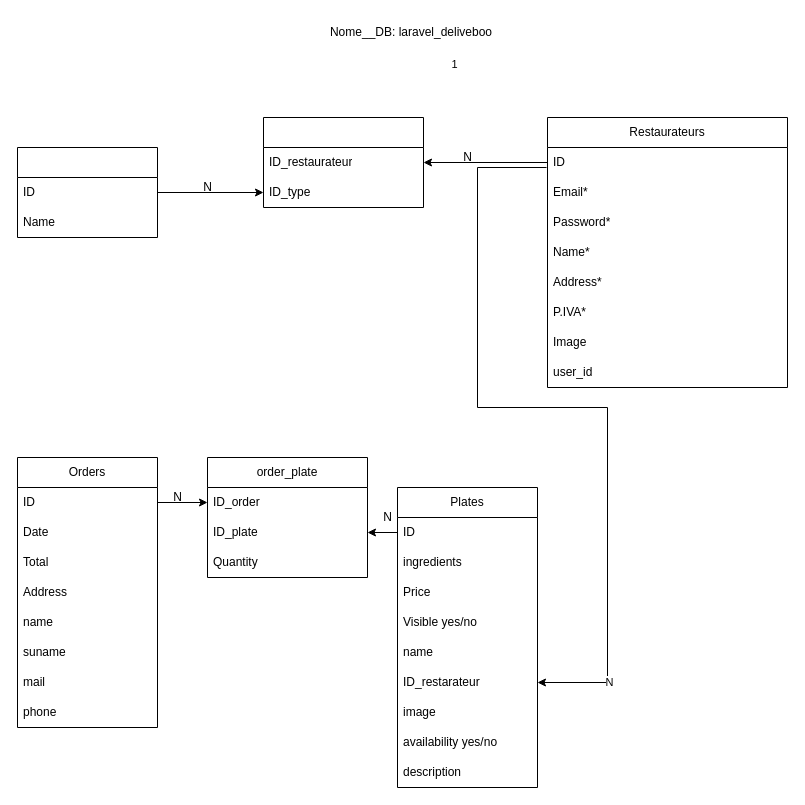
Image size: 805x805. Some labels were removed from this diagram. Here are the shapes that lost their labels. From the top down, the box of each, then its label:
(262, 116, 424, 208): restaurateur _type
(16, 146, 158, 238): Types
